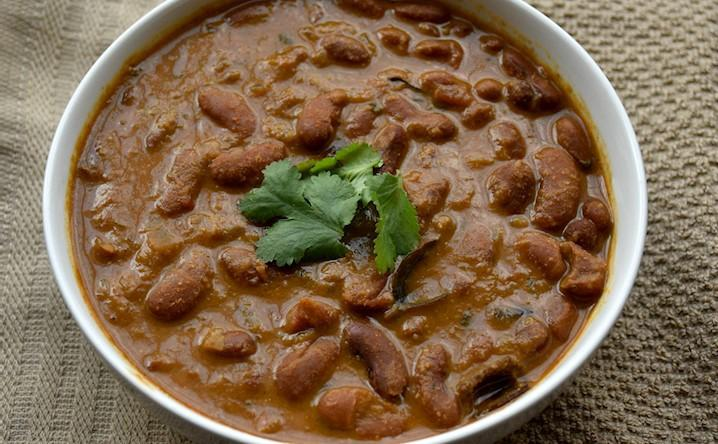RajmaCurry: (72, 0, 618, 442)
